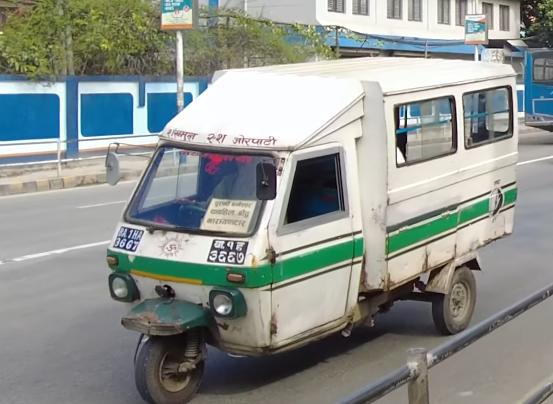tempo: (91, 54, 521, 404)
